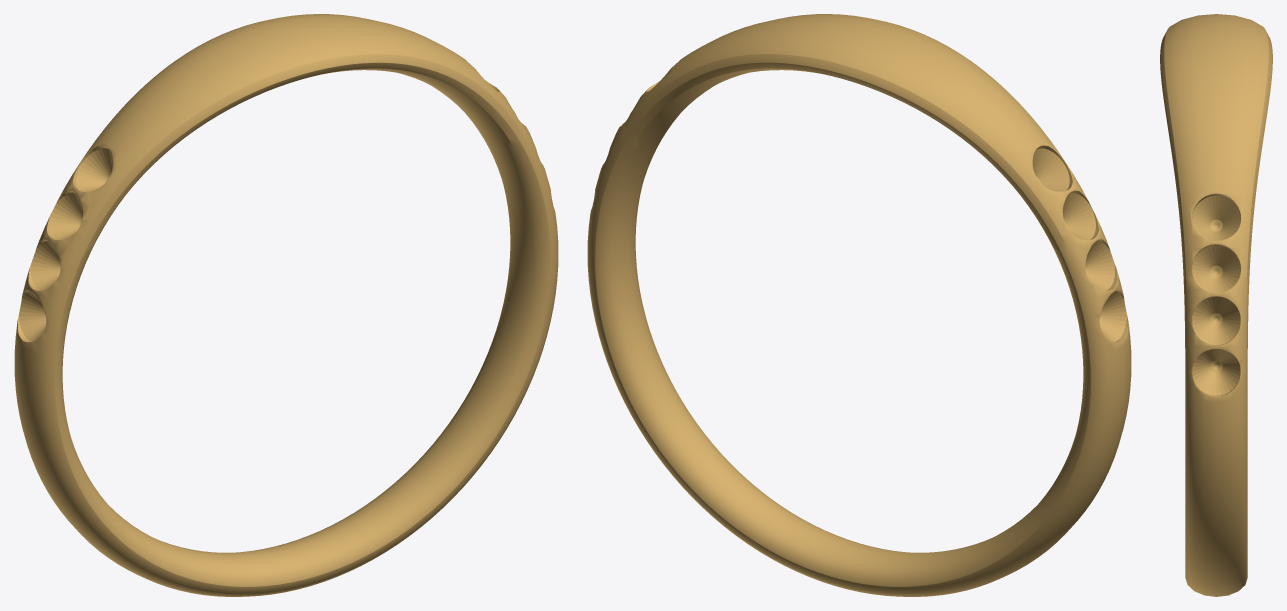
File: reverse-tapered-flush-accents-head.glb
3 renders of one model, left to right at view 1: azimuth 30°, elevation 25°; view 2: azimuth 150°, elevation 25°; view 3: azimuth 270°, elevation 25°, orthographic. The views are drawn at different scales.
Parts seen in each view (by area): view 1: Band; view 2: Band; view 3: Band.
Part boxes in pixels (bbox=[...]): Band: bbox=[14, 14, 558, 596]; Band: bbox=[587, 14, 1131, 596]; Band: bbox=[1160, 14, 1272, 596].
Bounding box in the file's own units: 19.6 × 19.6 × 3.79.
